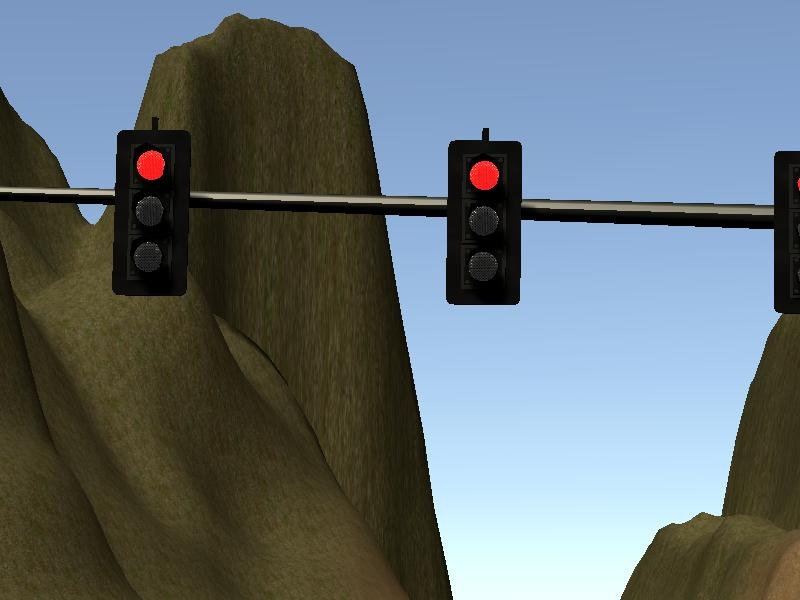red: (443, 136, 523, 308), (112, 129, 192, 296)
